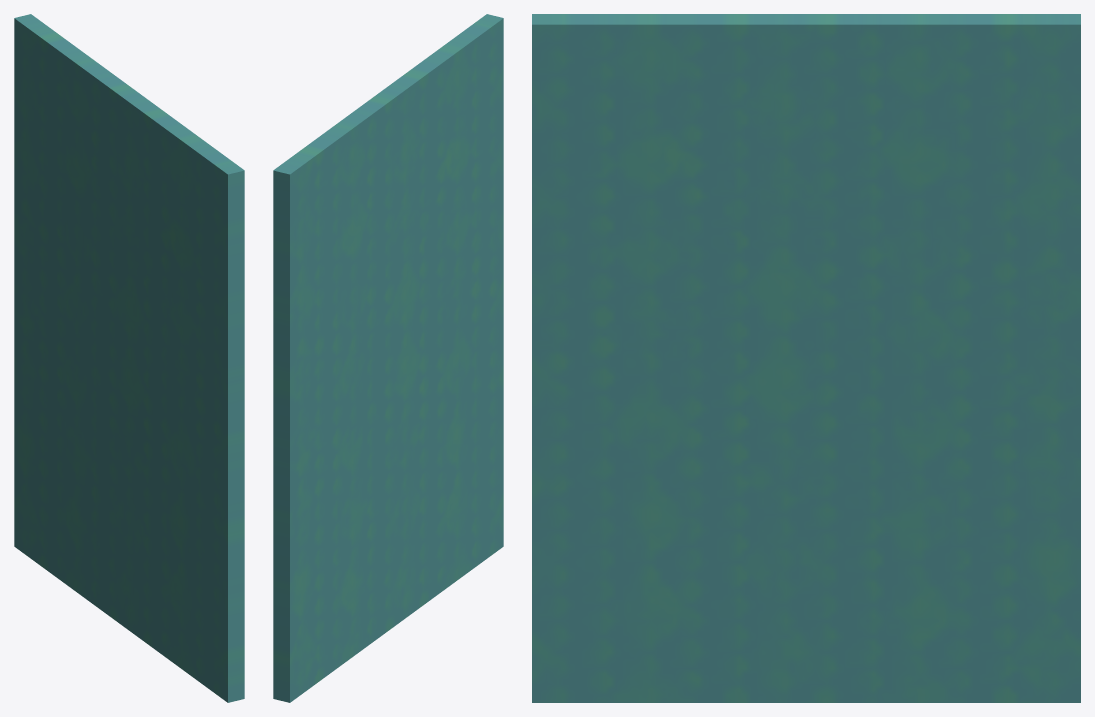
The model's file is BP_DoubleDoor_Tek_C.glb.
The picture shows the model from 3 angles, left to right: view 1: azimuth 30°, elevation 25°; view 2: azimuth 150°, elevation 25°; view 3: azimuth 270°, elevation 25°; orthographic projection. The views are drawn at different scales.
Visible parts, largest first — view 1: SM_Tek_DoorWallDouble; view 2: SM_Tek_DoorWallDouble; view 3: SM_Tek_DoorWallDouble.
Part boxes in pixels (x1,y1,x2,y2): SM_Tek_DoorWallDouble: [14, 14, 244, 702]; SM_Tek_DoorWallDouble: [273, 14, 503, 702]; SM_Tek_DoorWallDouble: [532, 14, 1080, 702].
Bounding box in the file's own units: 0.1 × 3 × 2.2.
Materials: 1 (1 with a texture image).
